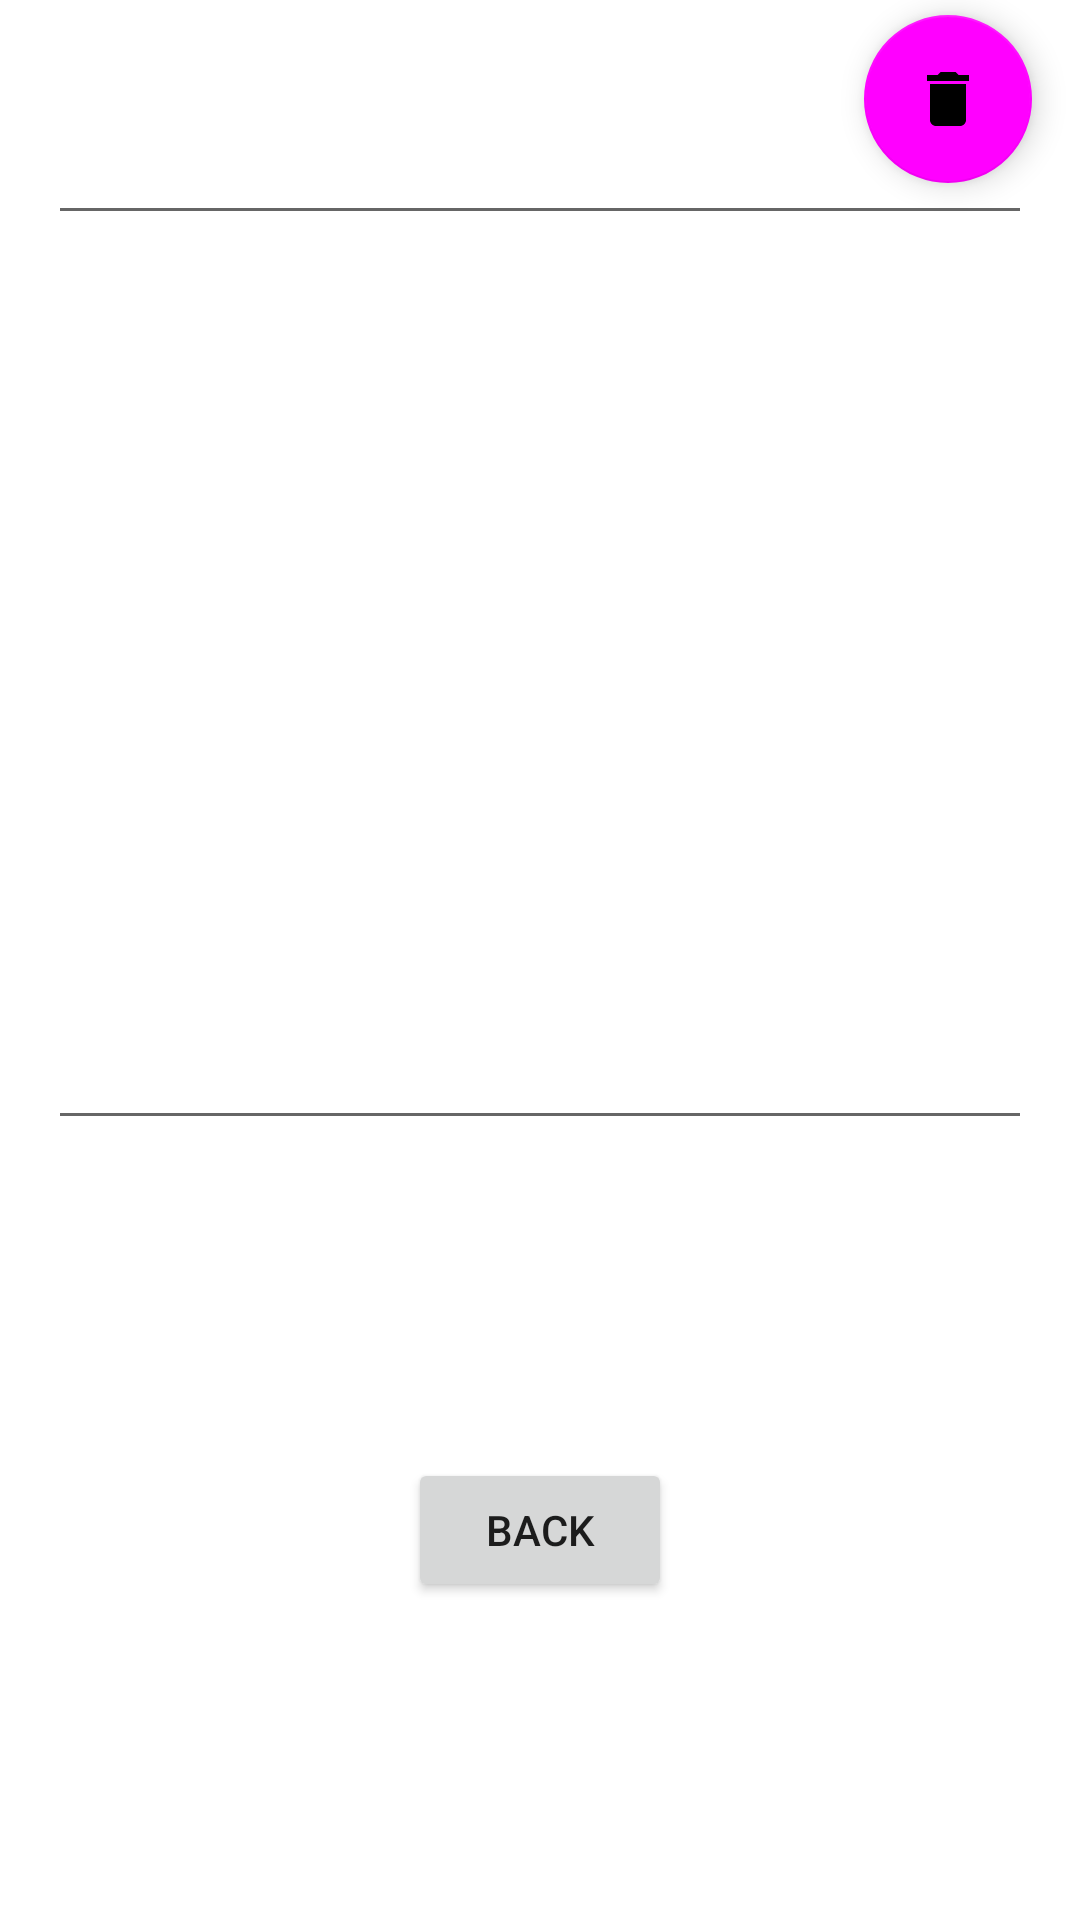

Screen size 1080*1920. Icon name, then its center in pixels as (x=x, y=y):
delete: (x=948, y=99)
